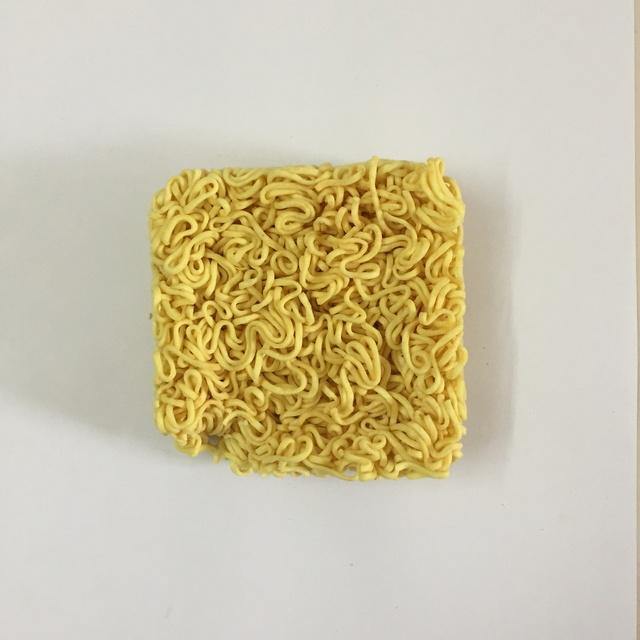noodles: (138, 147, 474, 494)
